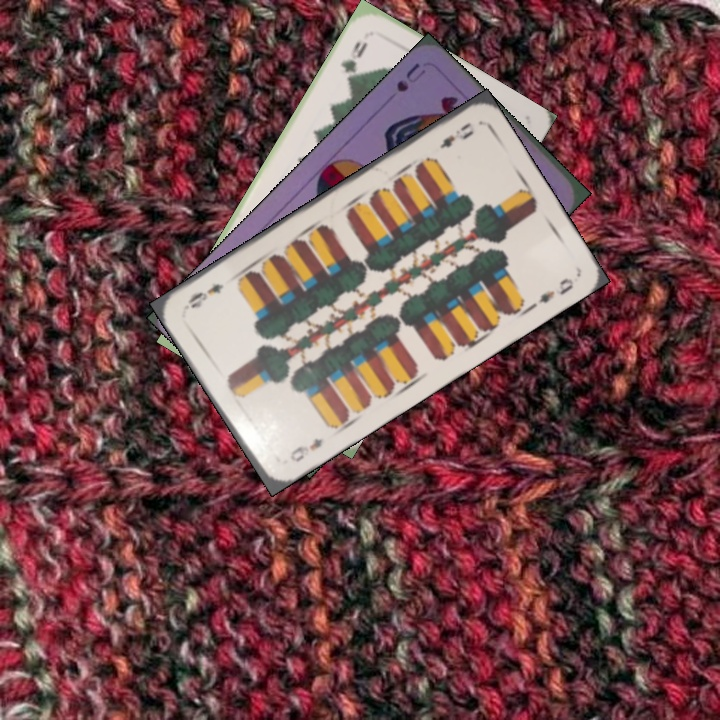E9: (435, 118, 477, 152), (286, 433, 325, 465)
G9: (336, 37, 371, 87)
SU: (392, 58, 428, 95)
